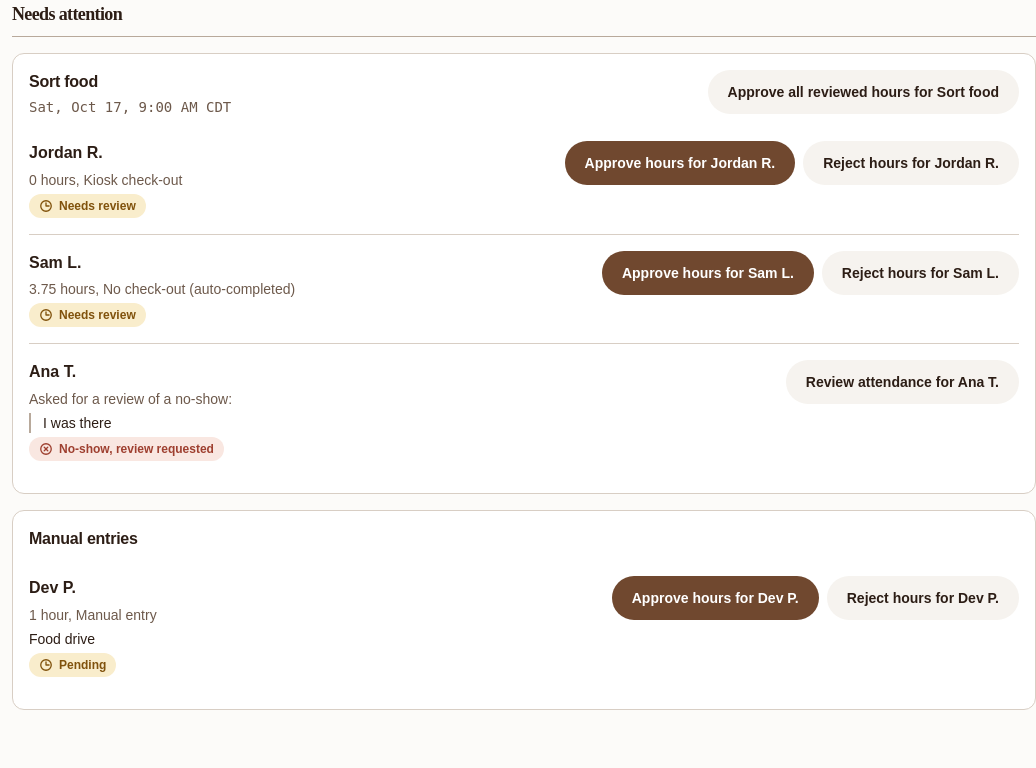
Test: NeedsAttentionList › approves one log and announces it
Step 1. Click the button "Approve hours for Sam L." → [708, 273], box [602,251,814,295]
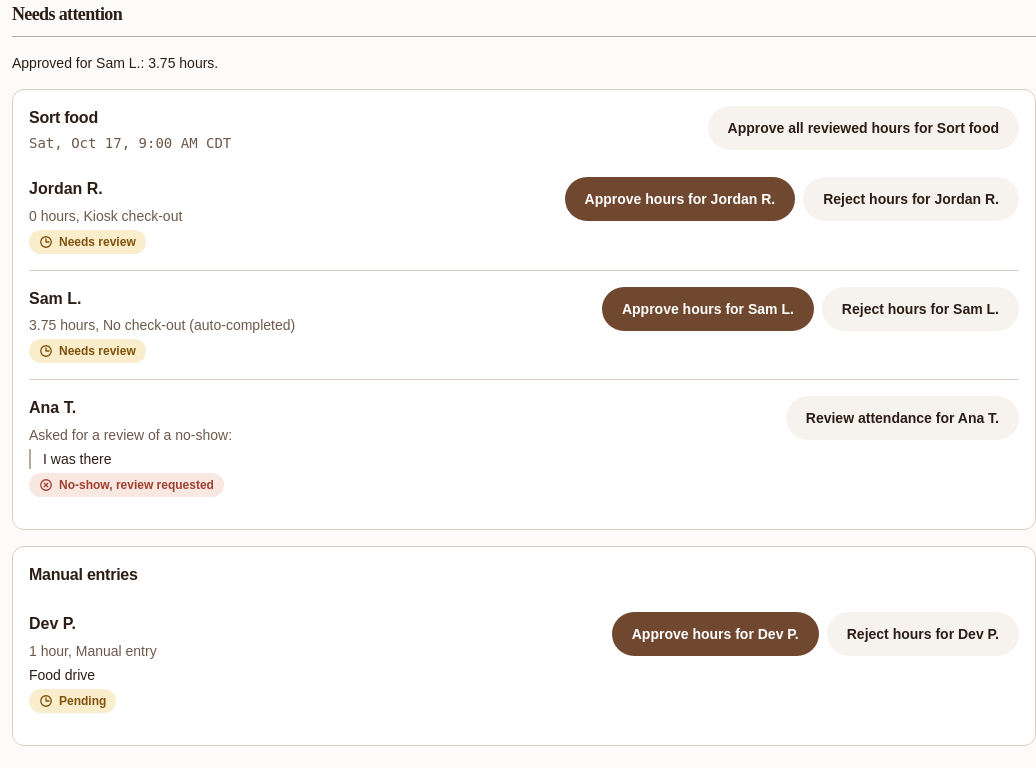
Check: the message reads "Approved for Sam L.: 3.75 hours.", box [12,55,218,71]
